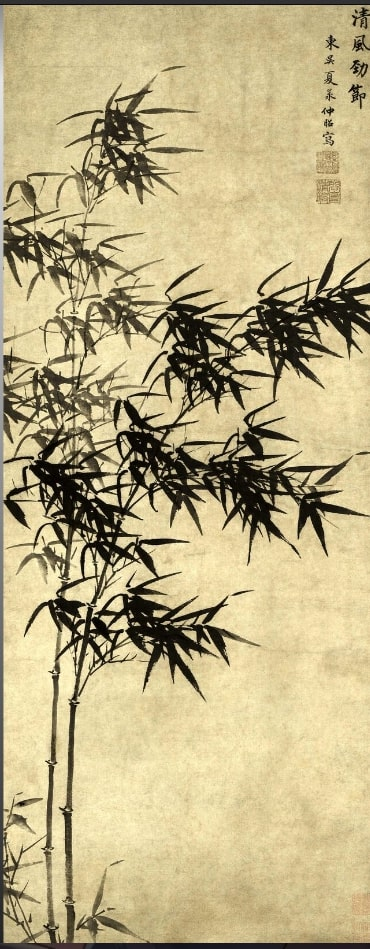bamboo: (6, 75, 160, 949), (163, 286, 370, 680)
